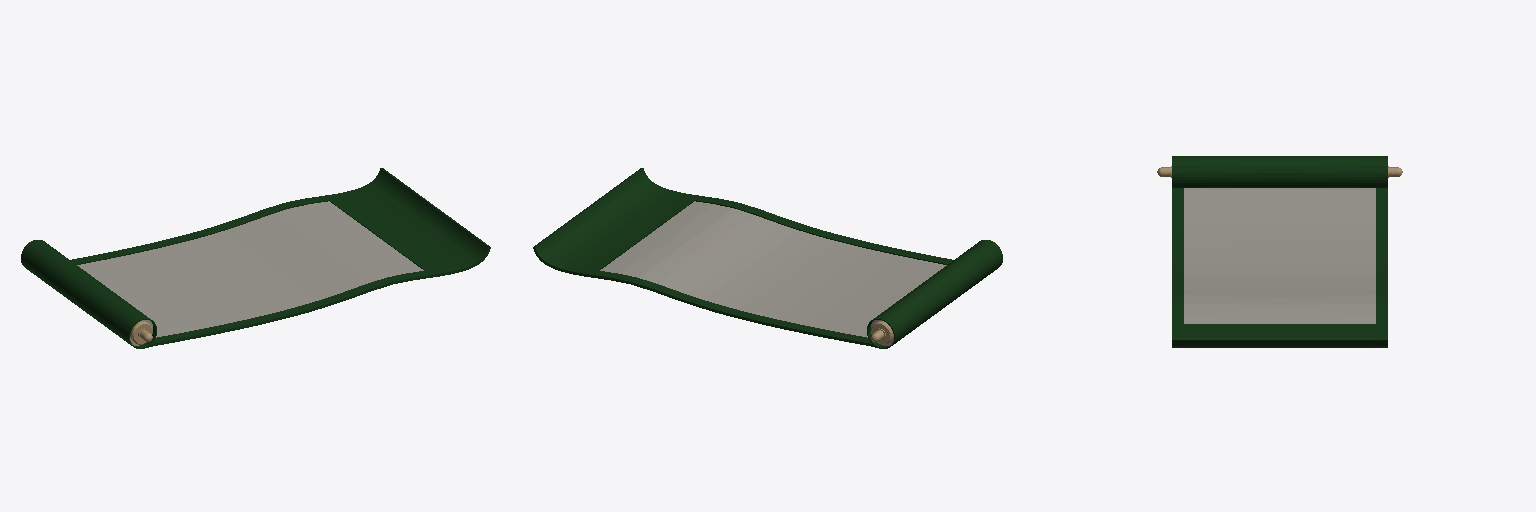
File: Makimono.obj
The picture shows the model from 3 angles: view 1: azimuth 30°, elevation 25°; view 2: azimuth 150°, elevation 25°; view 3: azimuth 270°, elevation 25°; orthographic projection.
Parts seen in each view (by area): view 1: makimono_open_Body2; view 2: makimono_open_Body2; view 3: makimono_open_Body2.
Boxes of the visible parts, box(x1,y1,x2,y2) form: makimono_open_Body2: box(21, 168, 490, 348); makimono_open_Body2: box(533, 168, 1002, 348); makimono_open_Body2: box(1157, 156, 1402, 347).
Size of the model in its own units: 0.3479 by 0.0315 by 0.204.